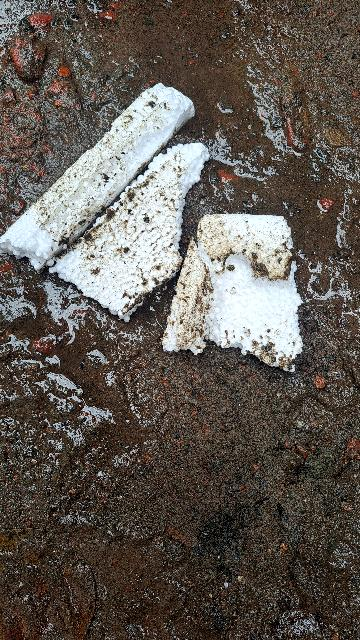cocksheet: (2, 72, 330, 377)
